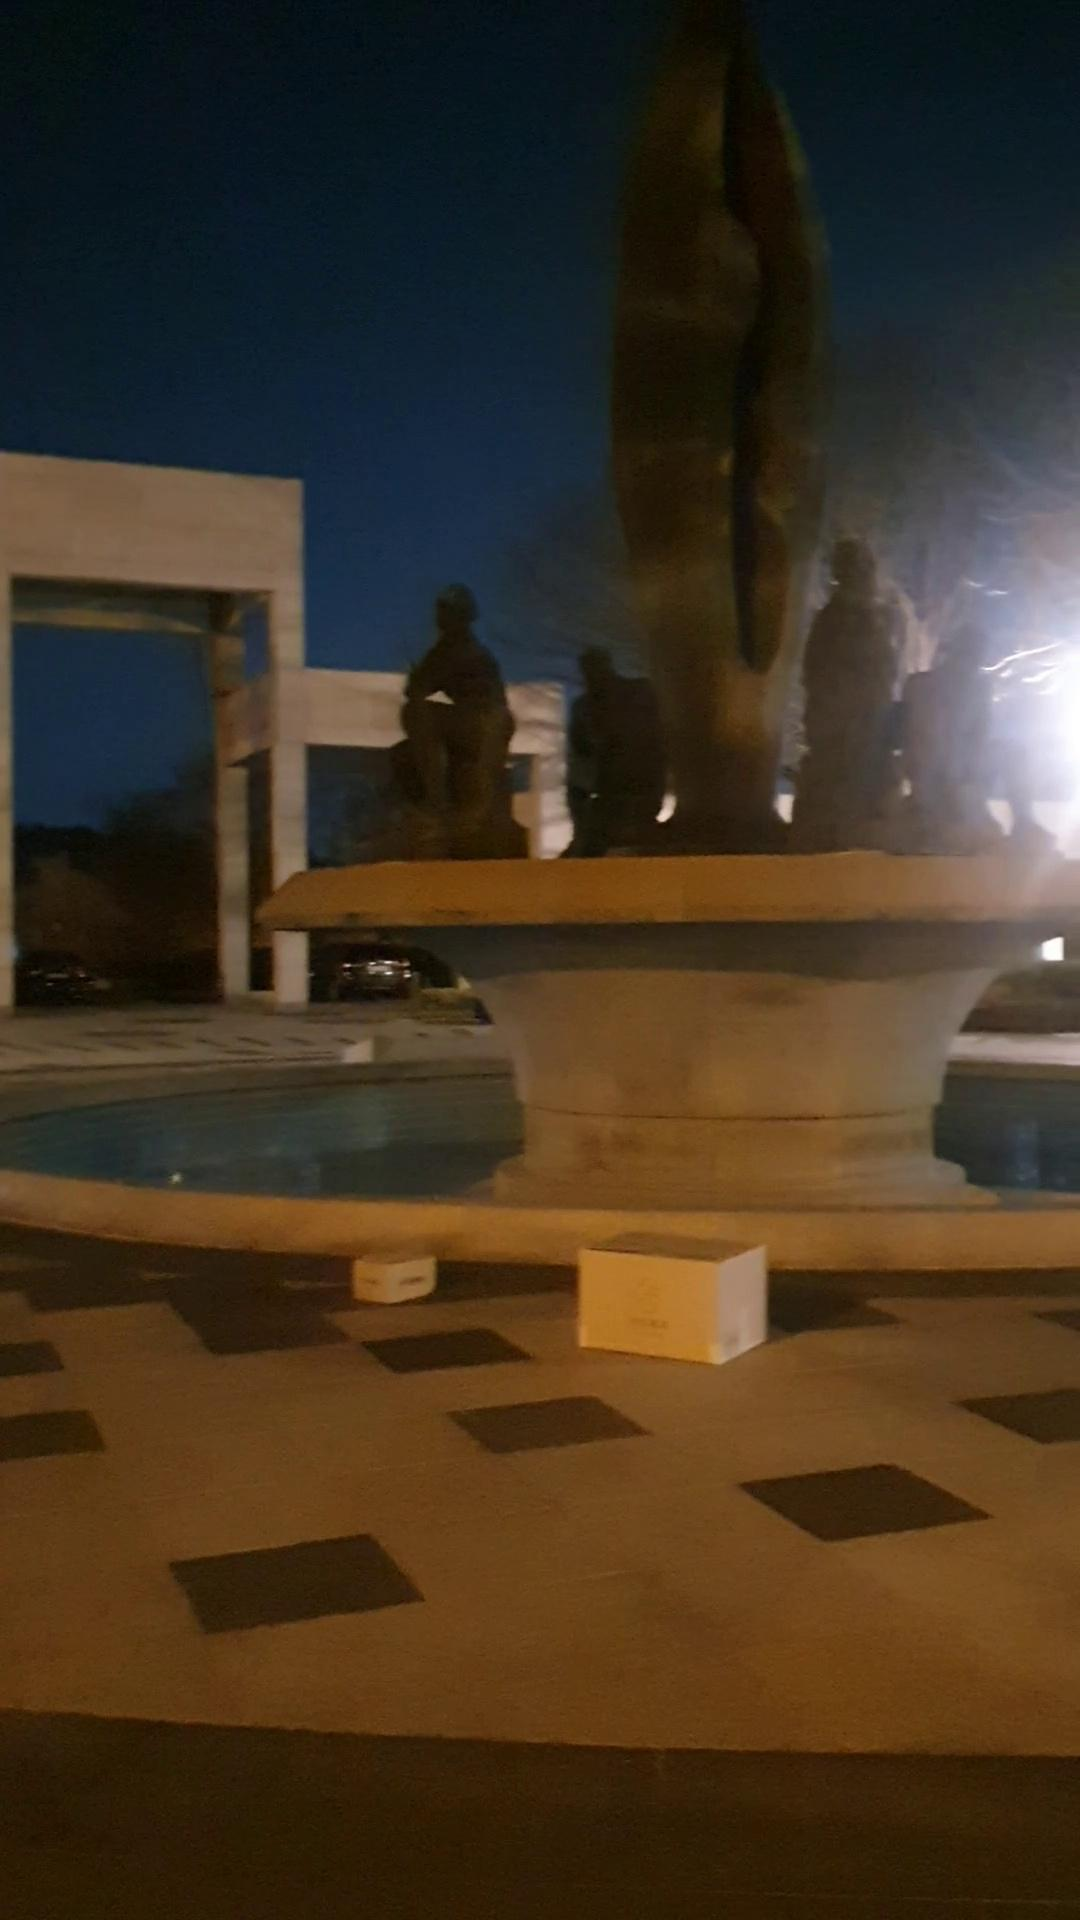Box: (571, 1215, 787, 1379), (343, 1244, 435, 1309)
